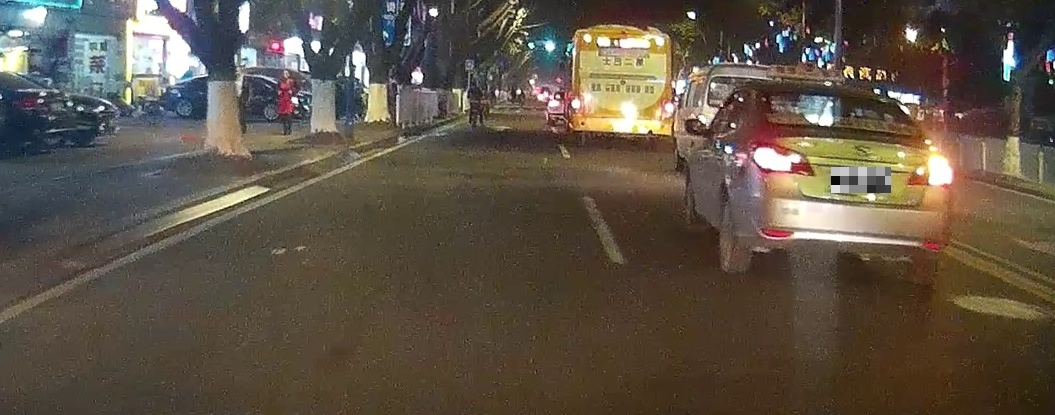L_light: (749, 141, 814, 176), (571, 96, 582, 111)
R_light: (906, 155, 954, 187), (659, 98, 674, 114)
T_light: (831, 95, 858, 101), (613, 33, 637, 39)
night-no: (570, 28, 676, 153)
night-right: (748, 80, 954, 287)
plate_1: (831, 167, 891, 193)
